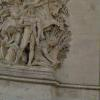Statue: (5, 5, 82, 74)
